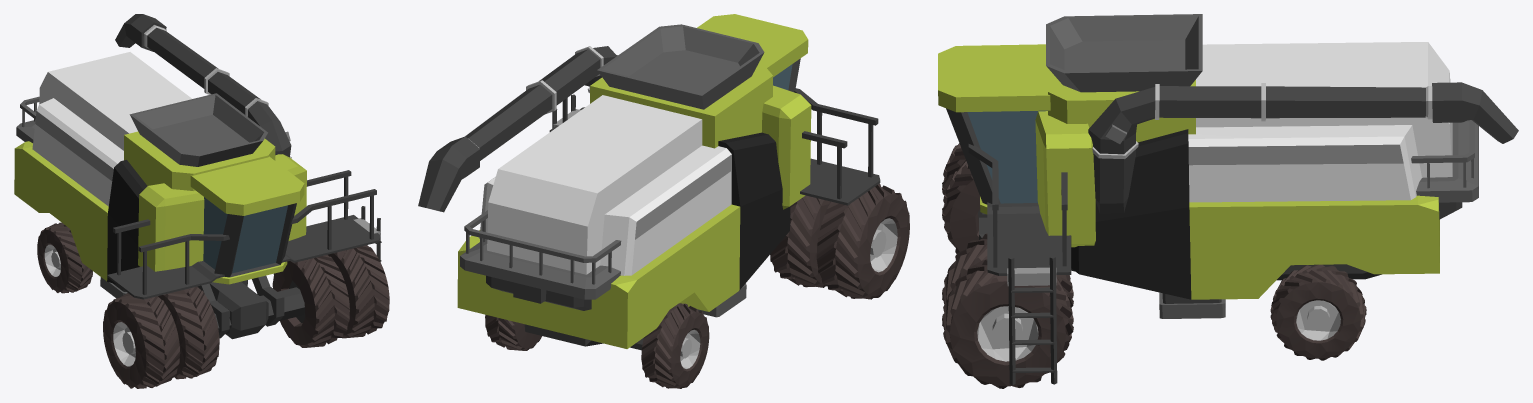
The model's file is harvester_004.glb.
The picture shows the model from 3 angles, left to right: view 1: azimuth 30°, elevation 25°; view 2: azimuth 150°, elevation 25°; view 3: azimuth 270°, elevation 25°; orthographic projection. The views are drawn at different scales.
Visible parts, largest first — view 1: harvester_004; view 2: harvester_004; view 3: harvester_004.
Boxes of the visible parts, x1,y1,x2,y2 form: harvester_004: [14, 14, 389, 388]; harvester_004: [418, 14, 909, 388]; harvester_004: [938, 14, 1518, 388].
Bounding box in the file's own units: 5.14 × 3.89 × 7.44.
1 material, 1 textured.
